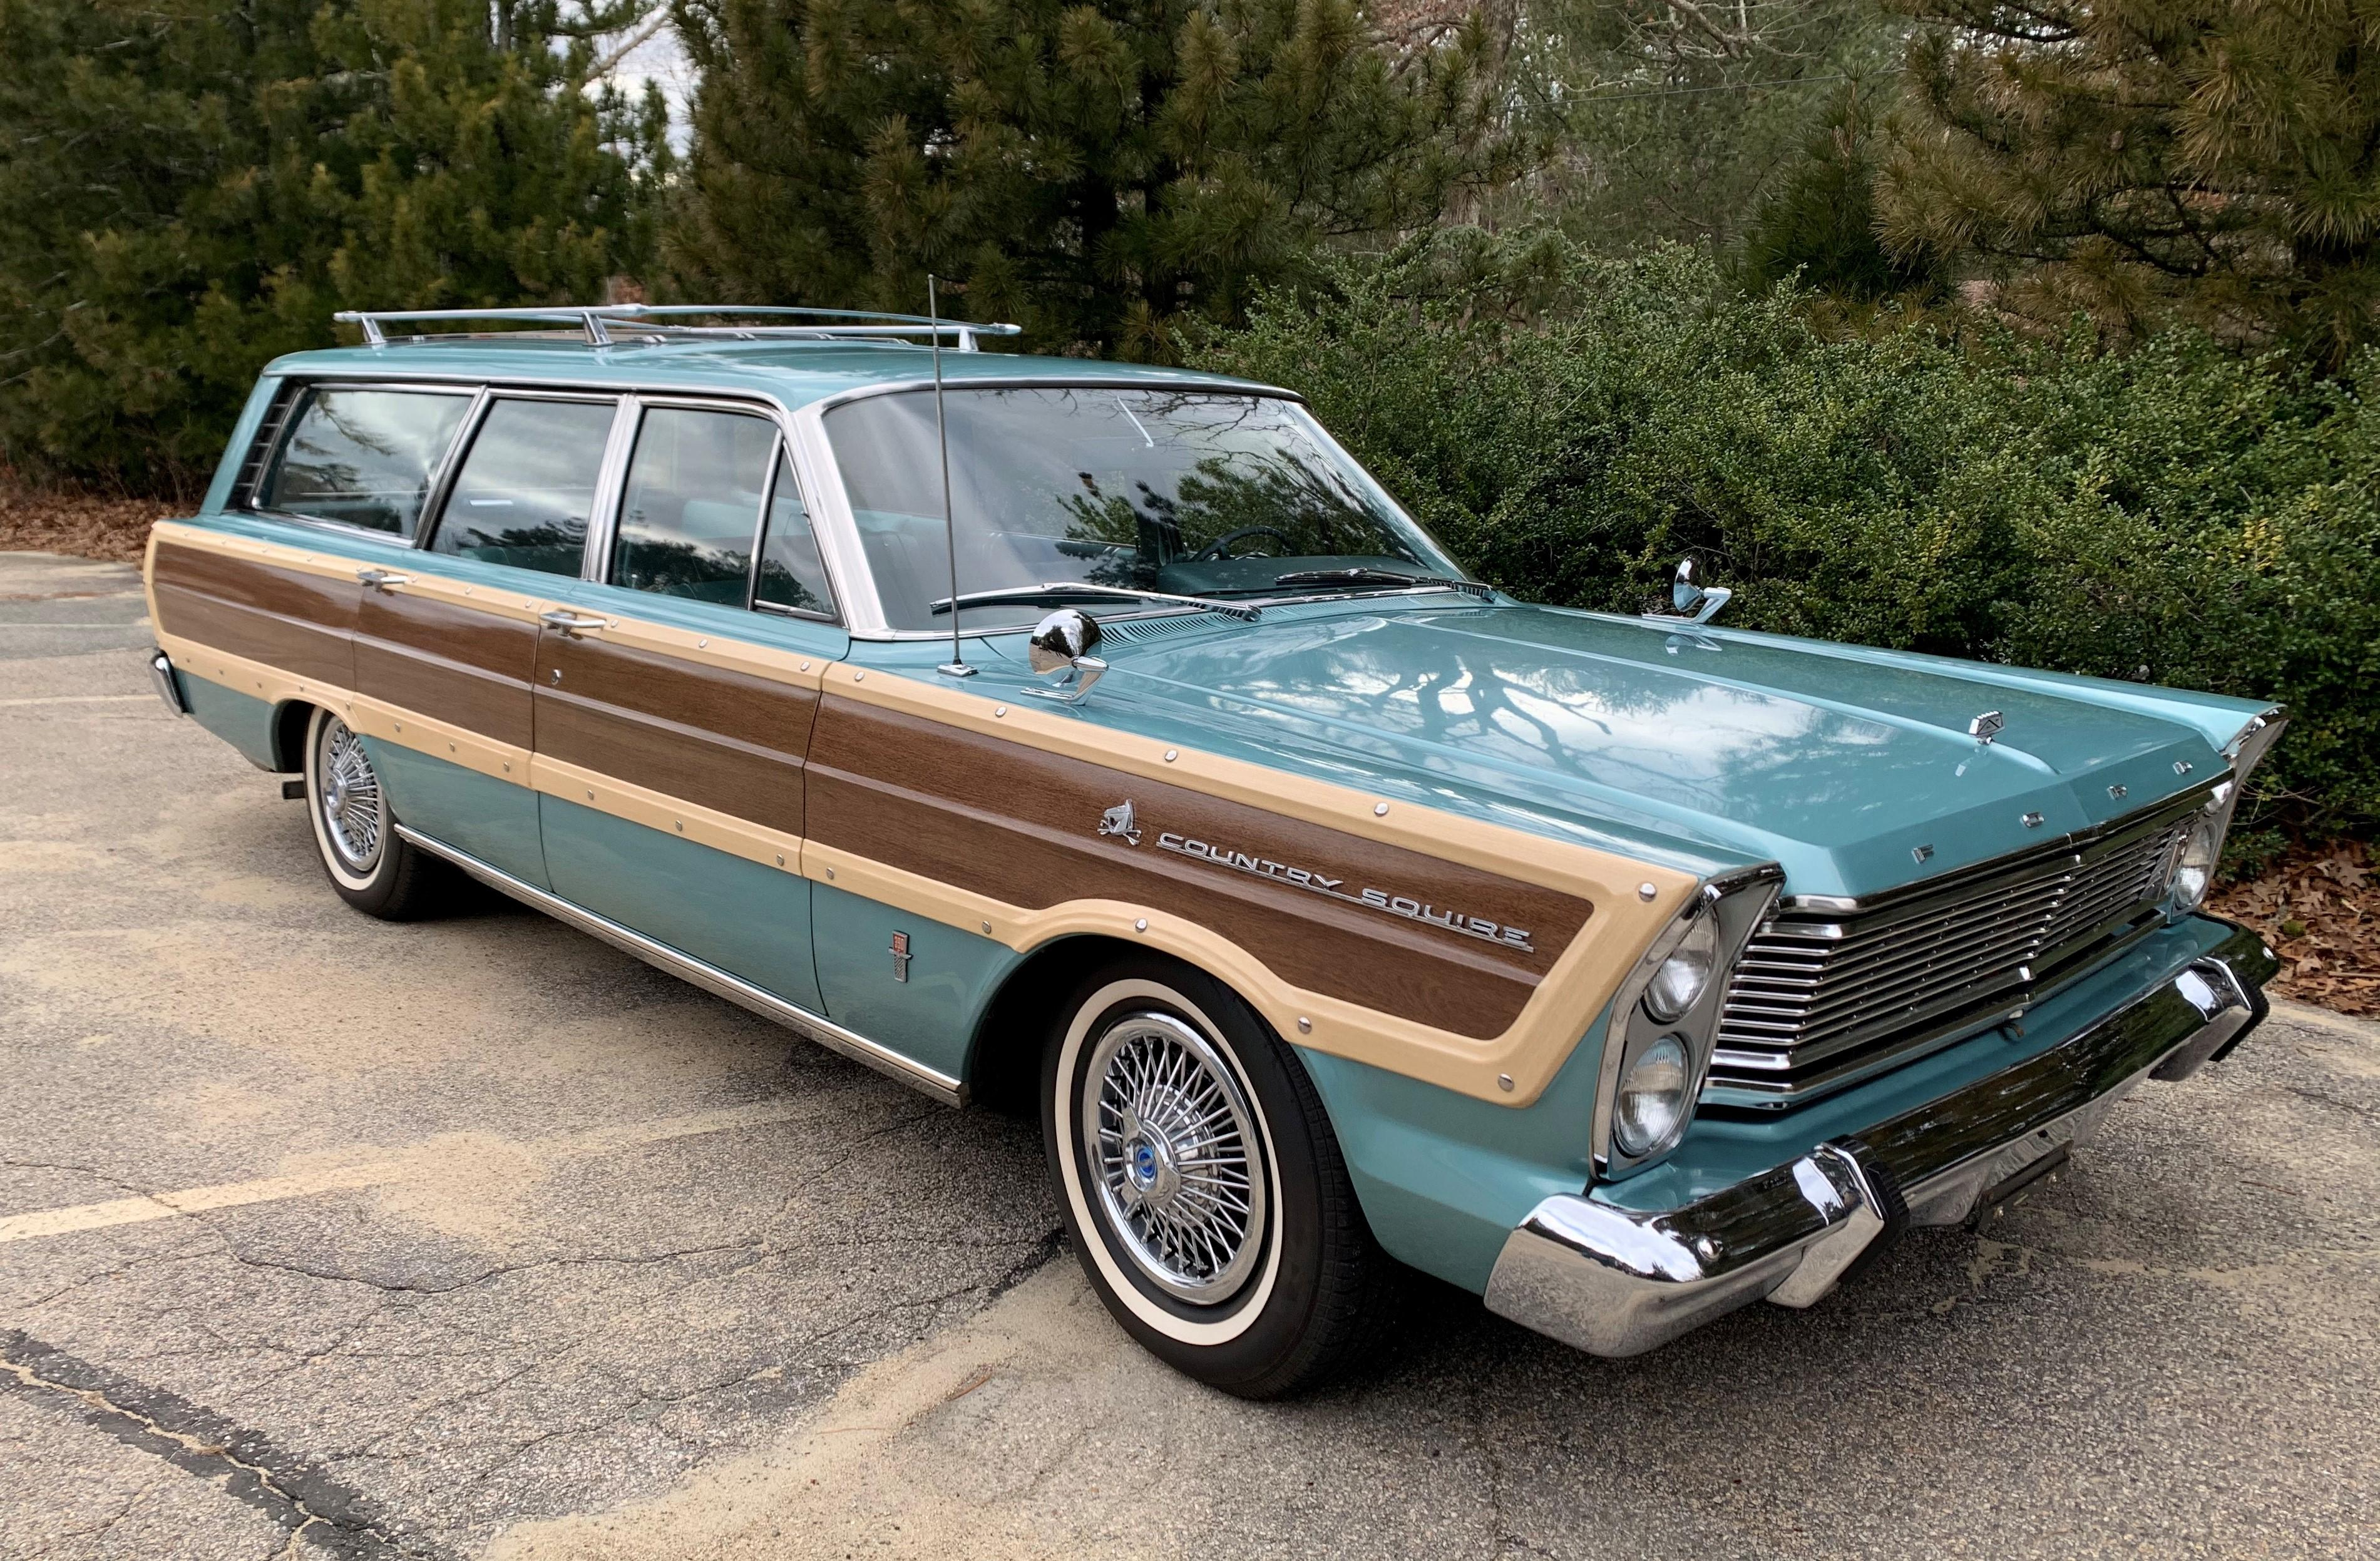car: (136, 282, 2338, 1413)
